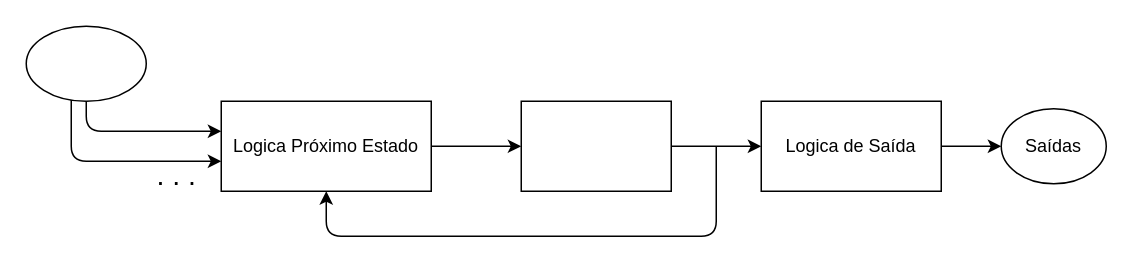
Image size: 1133x275. Some labels were removed from this diagram. The centre of each missing label's shape, as x and y in pixels:
"Entradas" goes at (85,63).
"Flip-Flops" goes at (595,145).
